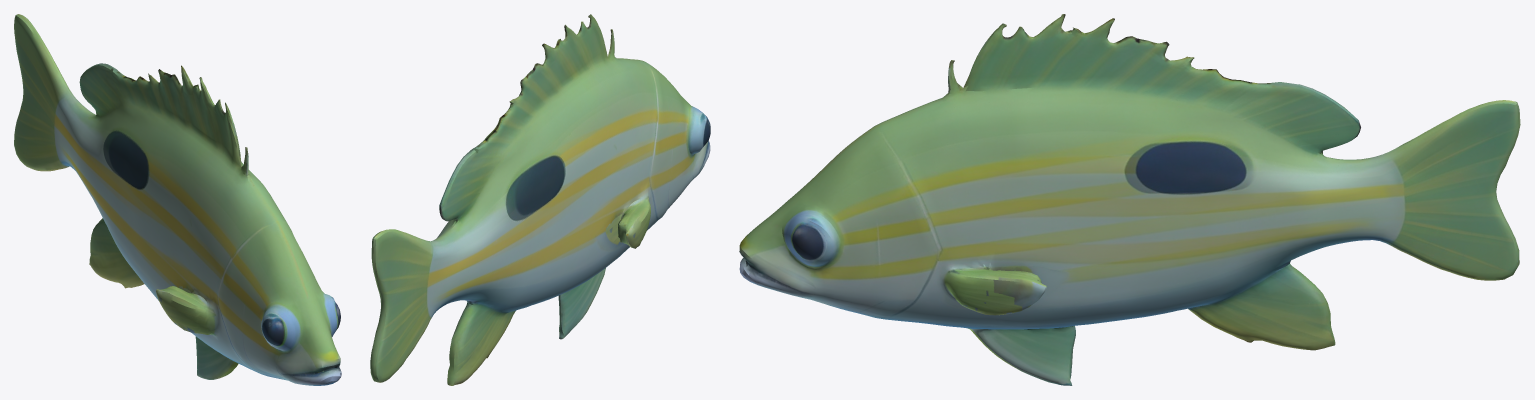
File: Meshy_AI_Golden_Striped_Fish_0624094409_texture.obj
3 views of the same model, side by side, from view 1: azimuth 30°, elevation 25°; view 2: azimuth 150°, elevation 25°; view 3: azimuth 270°, elevation 25° (orthographic). The views are drawn at different scales.
Parts seen in each view (by area): view 1: Meshy_AI_Golden_Striped_Fish_0624094409_texture; view 2: Meshy_AI_Golden_Striped_Fish_0624094409_texture; view 3: Meshy_AI_Golden_Striped_Fish_0624094409_texture.
Part boxes in pixels (<box>): Meshy_AI_Golden_Striped_Fish_0624094409_texture: <box>14,14,341,385</box>; Meshy_AI_Golden_Striped_Fish_0624094409_texture: <box>370,14,710,385</box>; Meshy_AI_Golden_Striped_Fish_0624094409_texture: <box>739,14,1520,385</box>.
Size of the model in its own units: 0.4001 by 1.05 by 2.
1 material, 1 textured.
